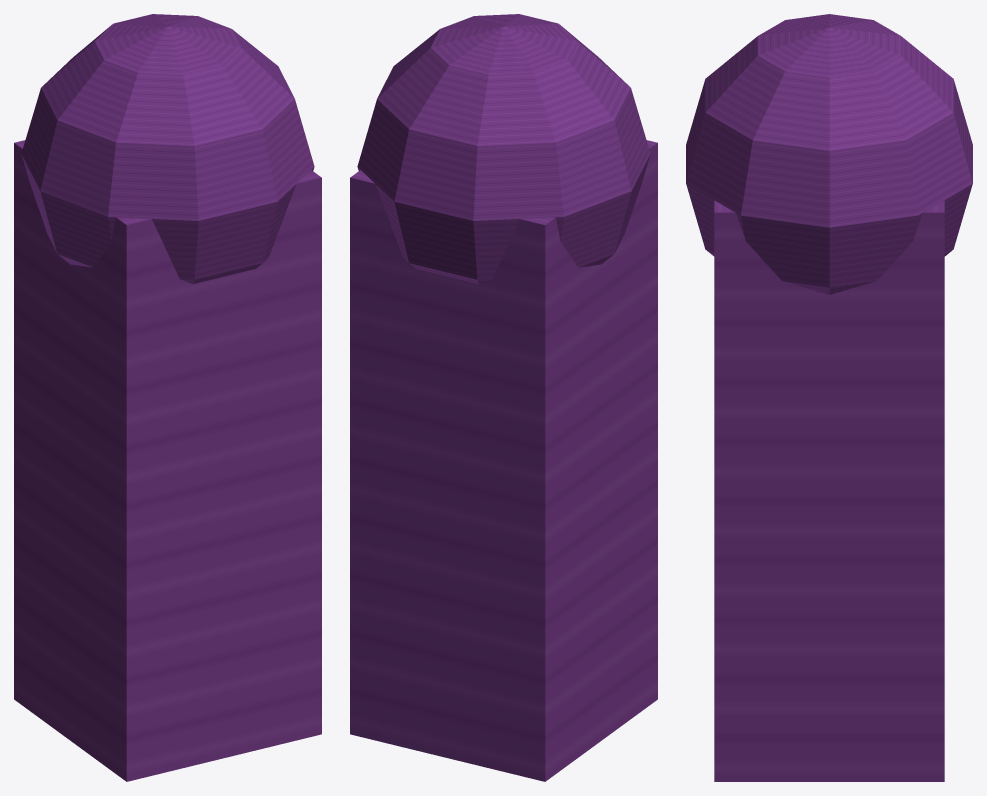
File: oracion_brazo_der.obj
3 renders of one model, left to right at view 1: azimuth 30°, elevation 25°; view 2: azimuth 150°, elevation 25°; view 3: azimuth 270°, elevation 25°, orthographic. The views are drawn at different scales.
Parts seen in each view (by area): view 1: oracion_brazo_der; view 2: oracion_brazo_der; view 3: oracion_brazo_der.
Boxes of the visible parts, x1,y1,x2,y2 form: oracion_brazo_der: (14,14,321,781); oracion_brazo_der: (350,14,657,781); oracion_brazo_der: (686,14,972,781).
Bounding box in the file's own units: 0.072 × 0.186 × 0.0685.
1 material, 1 textured.
